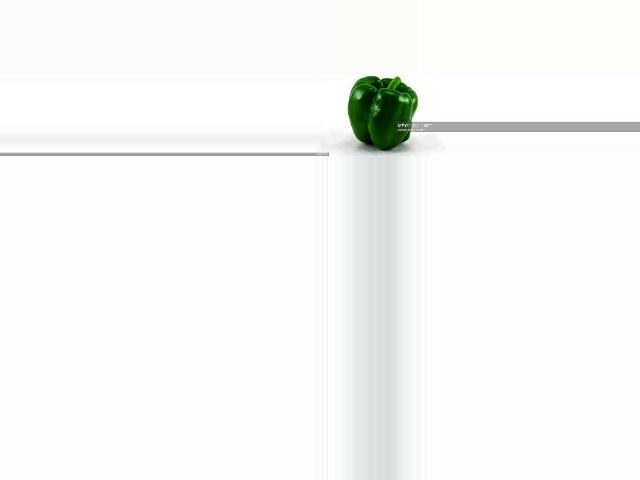bell_pepper: (345, 72, 416, 152)
